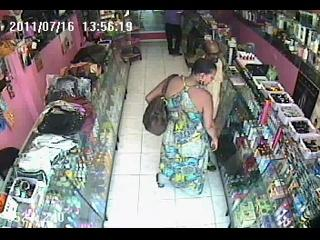Normal: (144, 59, 220, 196), (143, 74, 180, 136), (163, 10, 184, 56)
